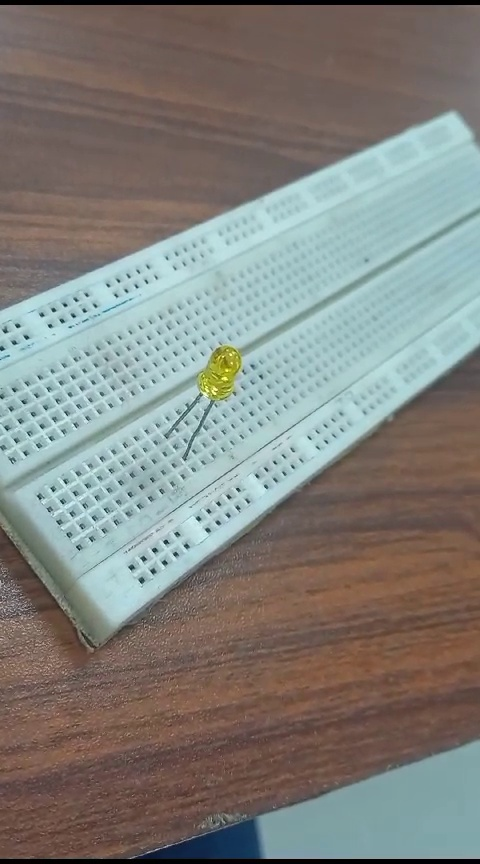LED: (159, 344, 251, 449)
